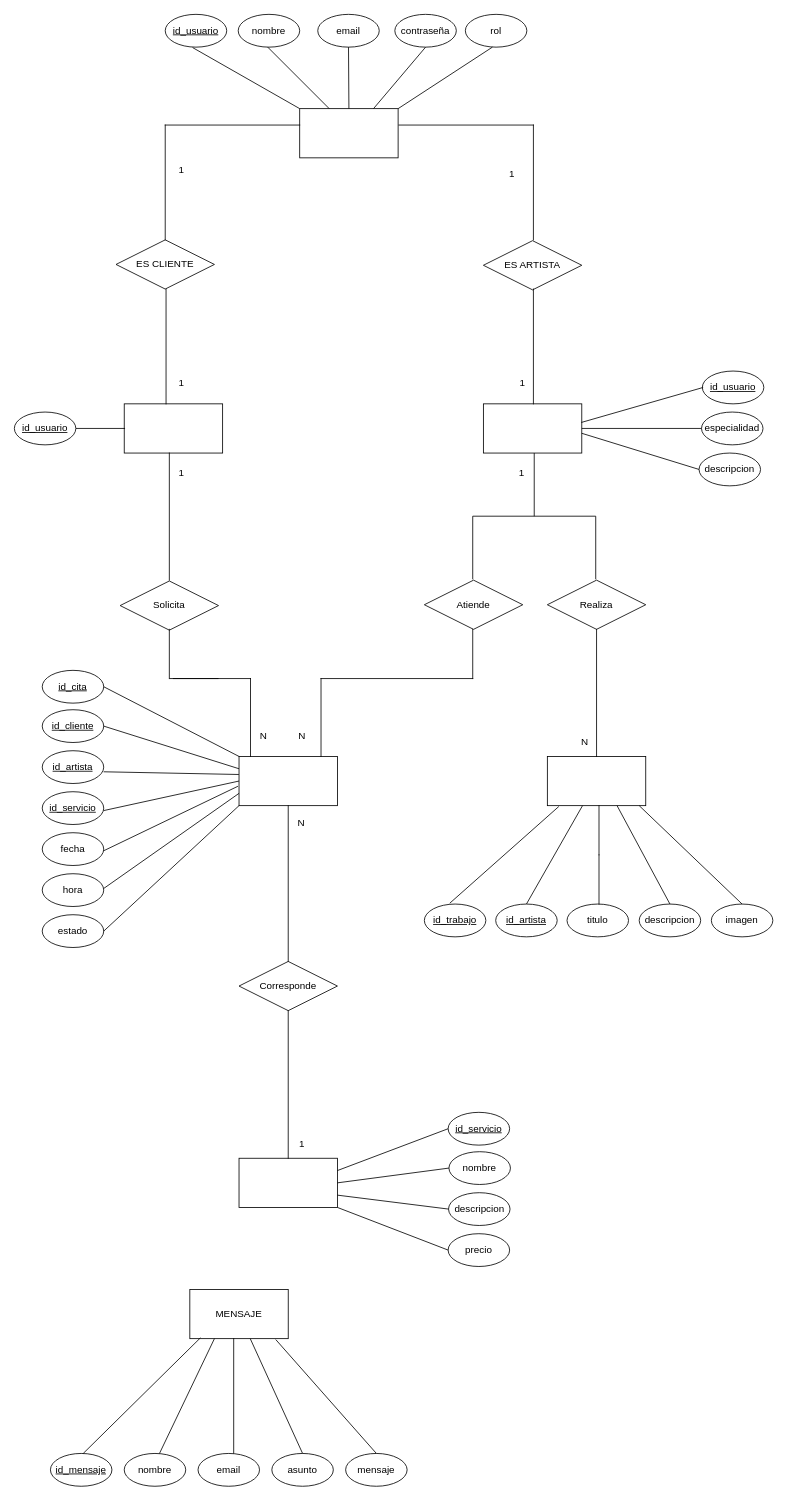
Some shapes in this 787 by 1501 pixel diagram are drawn without their labels. The centre of each missing label's shape, as x and y in pixels:
"ARTISTA" belongs at [532,428].
"CITA" belongs at [287,781].
"CLIENTE" belongs at [173,428].
"SERVICIO" belongs at [287,1182].
"TRABAJO" belongs at [596,781].
"USUARIO" belongs at [348,133].
